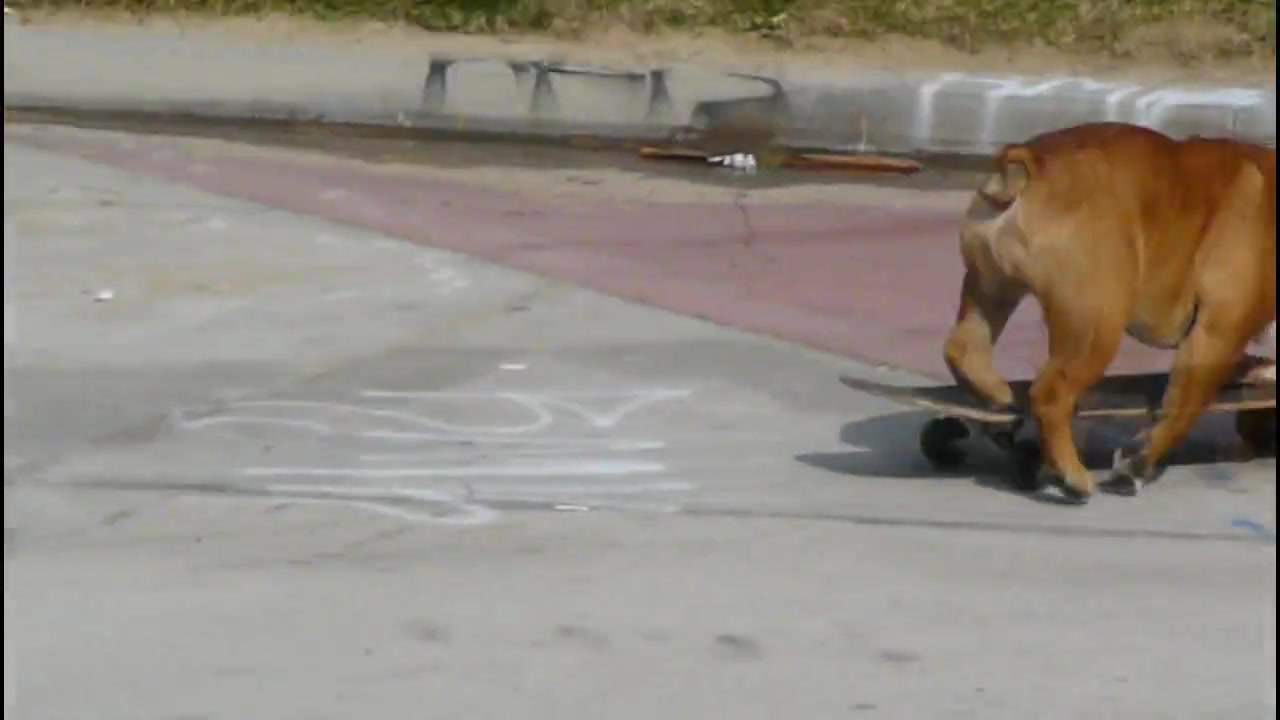dog: (942, 119, 1279, 503)
